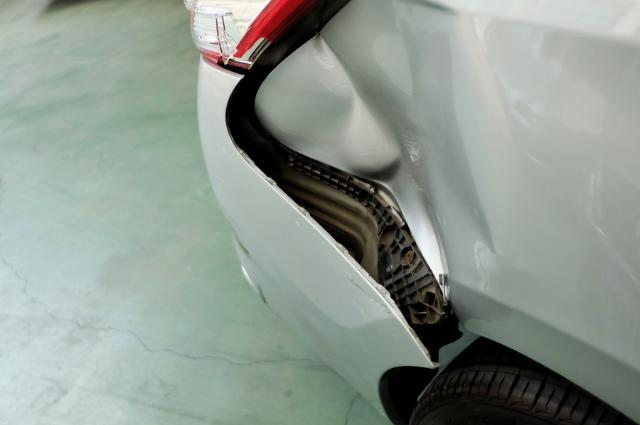Fender: (247, 0, 566, 346)
